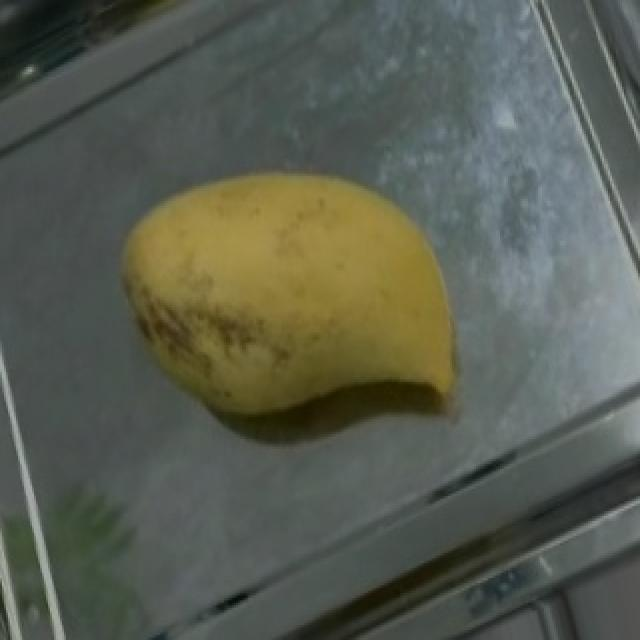fruit: (66, 102, 542, 486)
